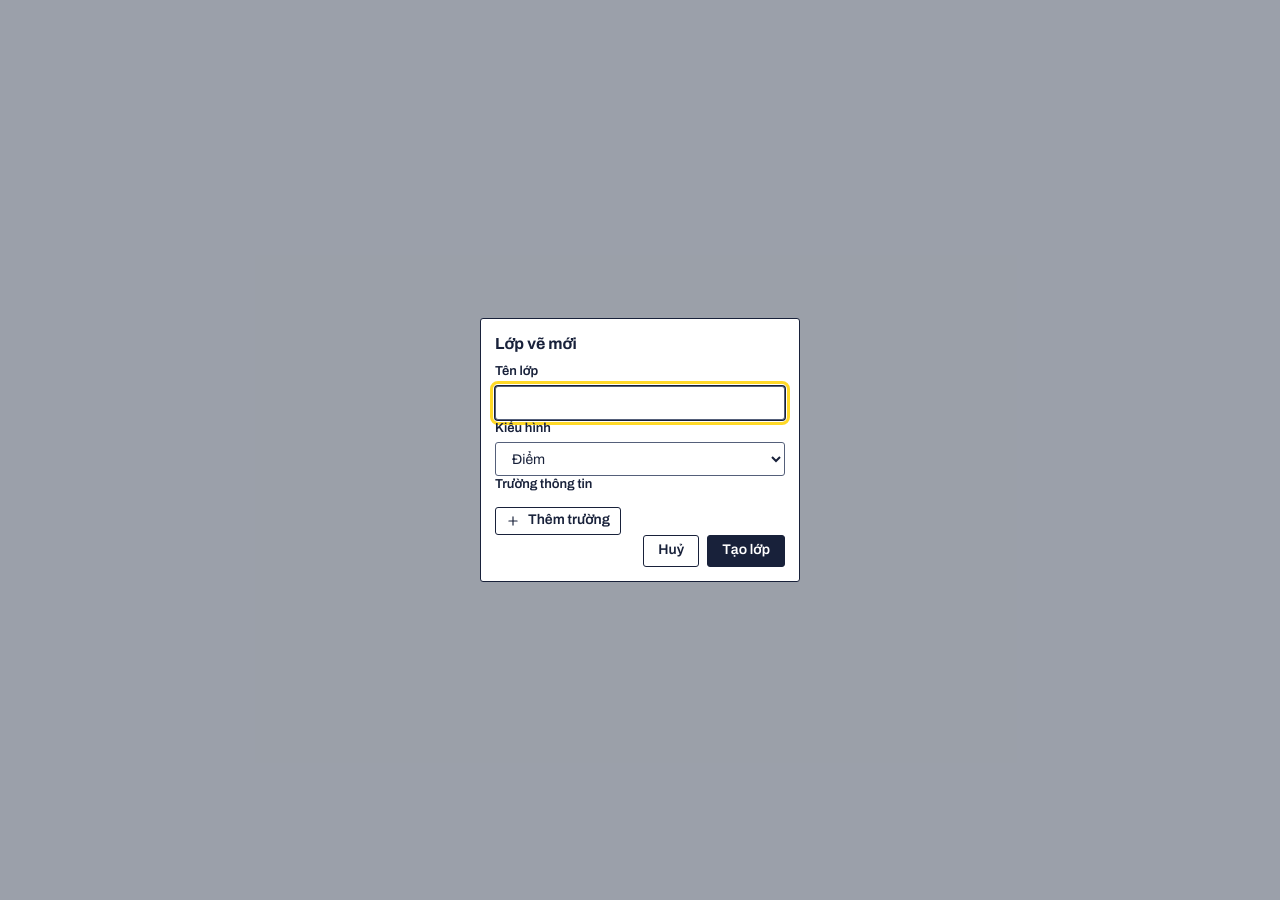
NewLayerDialogView › a field row can be removed; the typed values stay when the API refuses
Click the button "Thêm trường" at (558, 521), box x1=495 y1=507 x2=621 y2=535
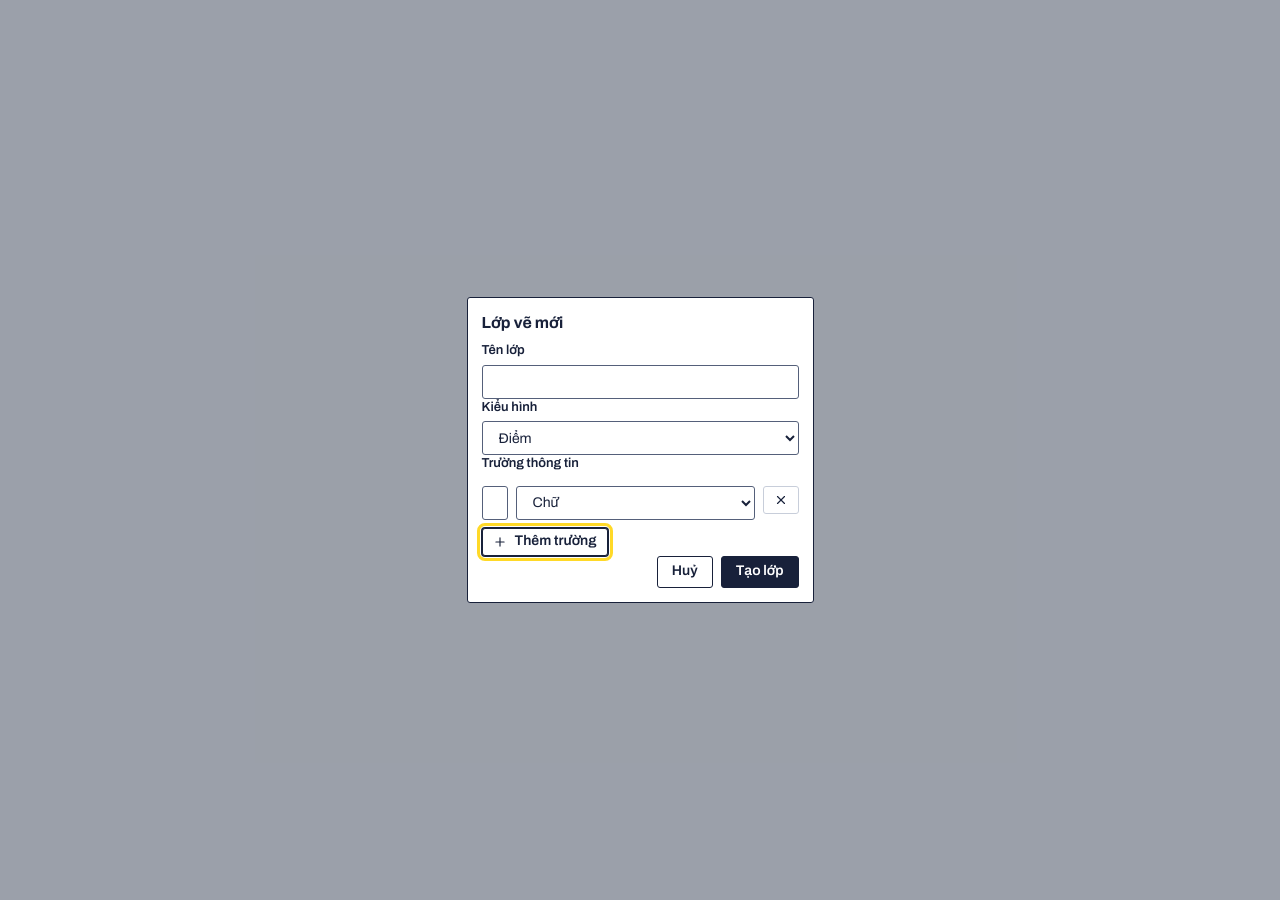
Click the button named "Xoá trường" at (780, 500), box x1=762 y1=486 x2=798 y2=514
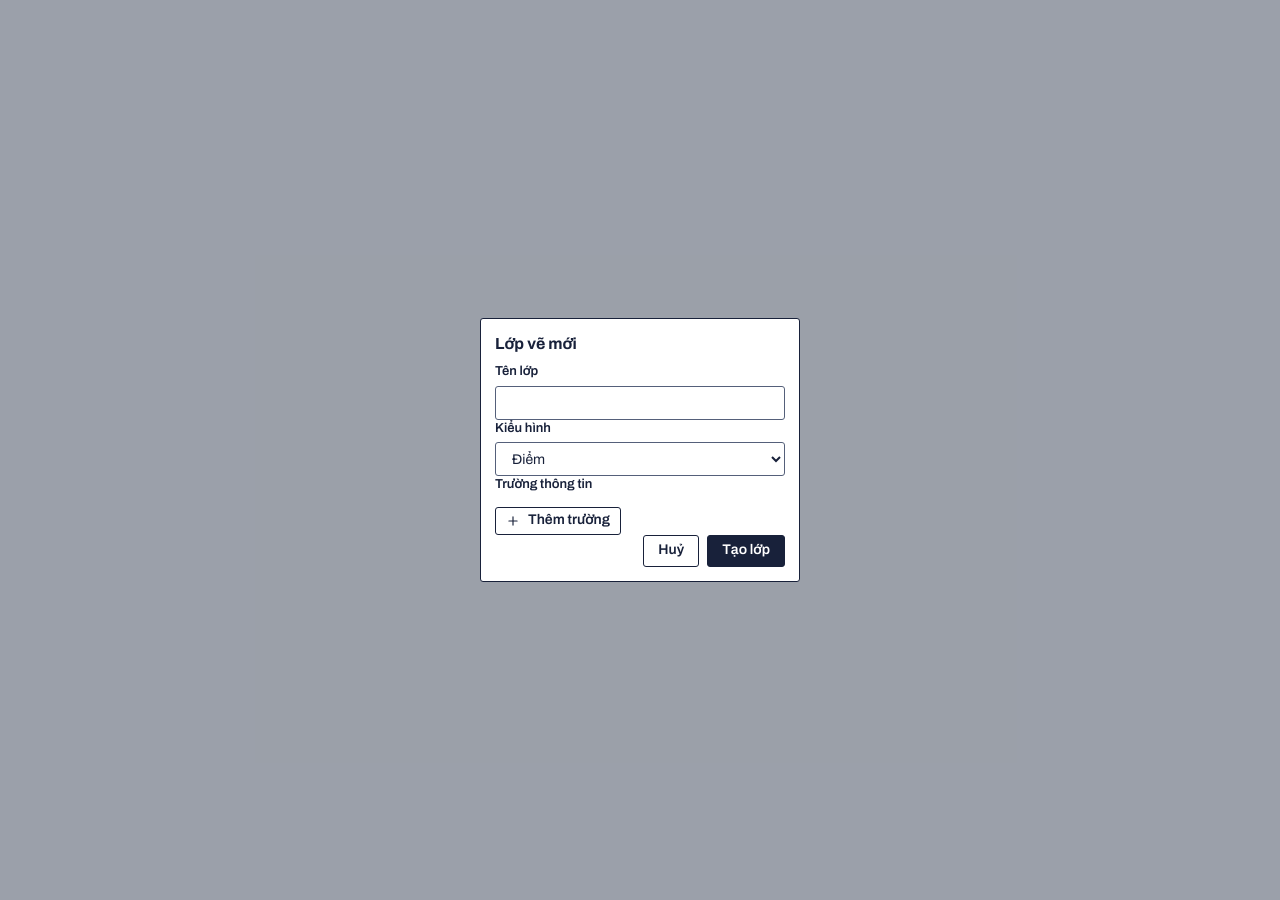
Type "Giữ" into the field labelled "Tên lớp" at (640, 402), box x1=495 y1=386 x2=785 y2=420
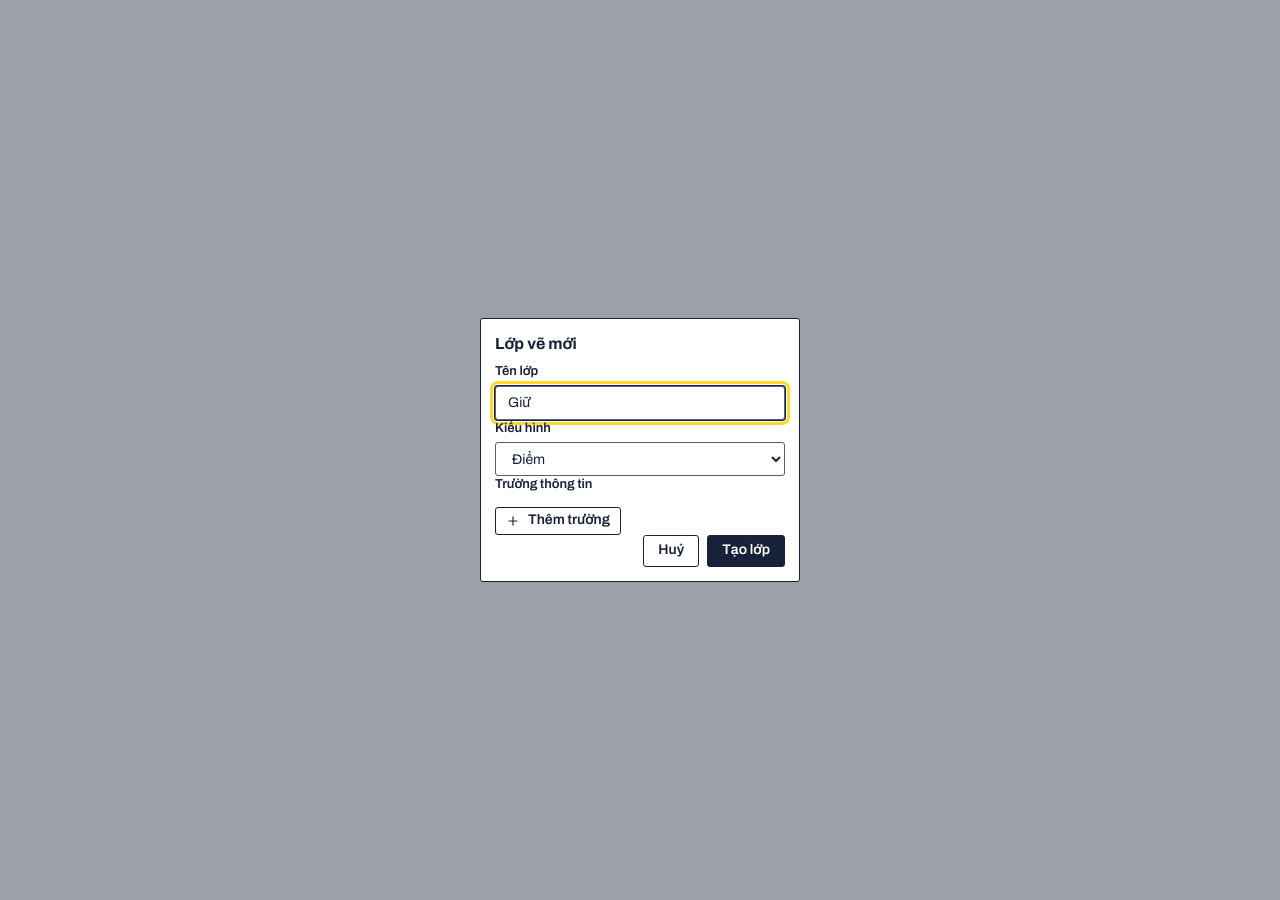
Click the button "Tạo lớp" at (746, 551), box x1=707 y1=535 x2=785 y2=567
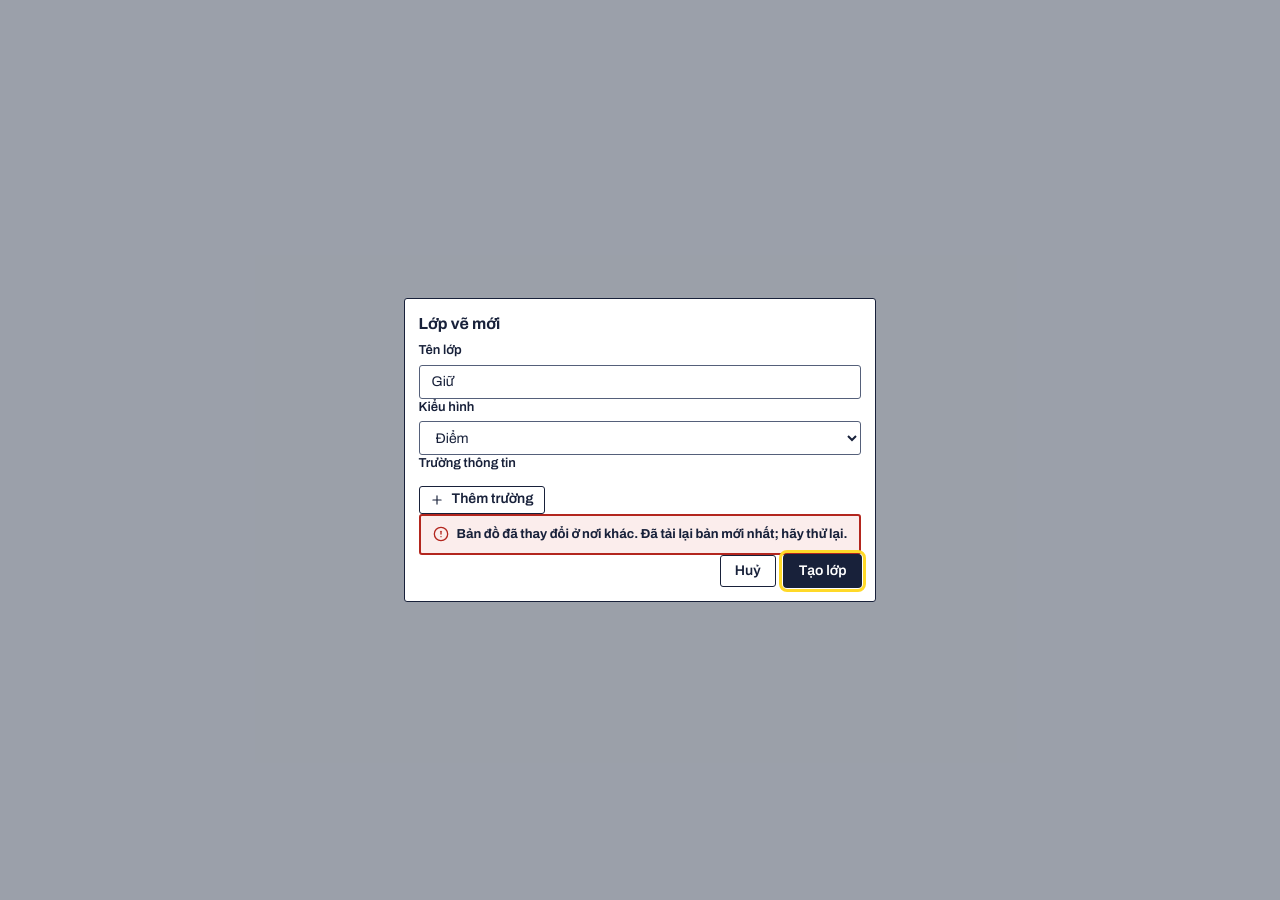
expect the text "Bản đồ đã thay đổi ở nơi khác" is shown: met, box x1=456 y1=527 x2=848 y2=541
